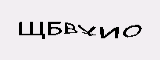Б: (47, 20, 62, 36)
В: (64, 21, 78, 36)
И: (99, 26, 119, 40)
О: (121, 24, 143, 39)
Щ: (17, 19, 46, 40)
Ұ: (77, 23, 96, 37)
